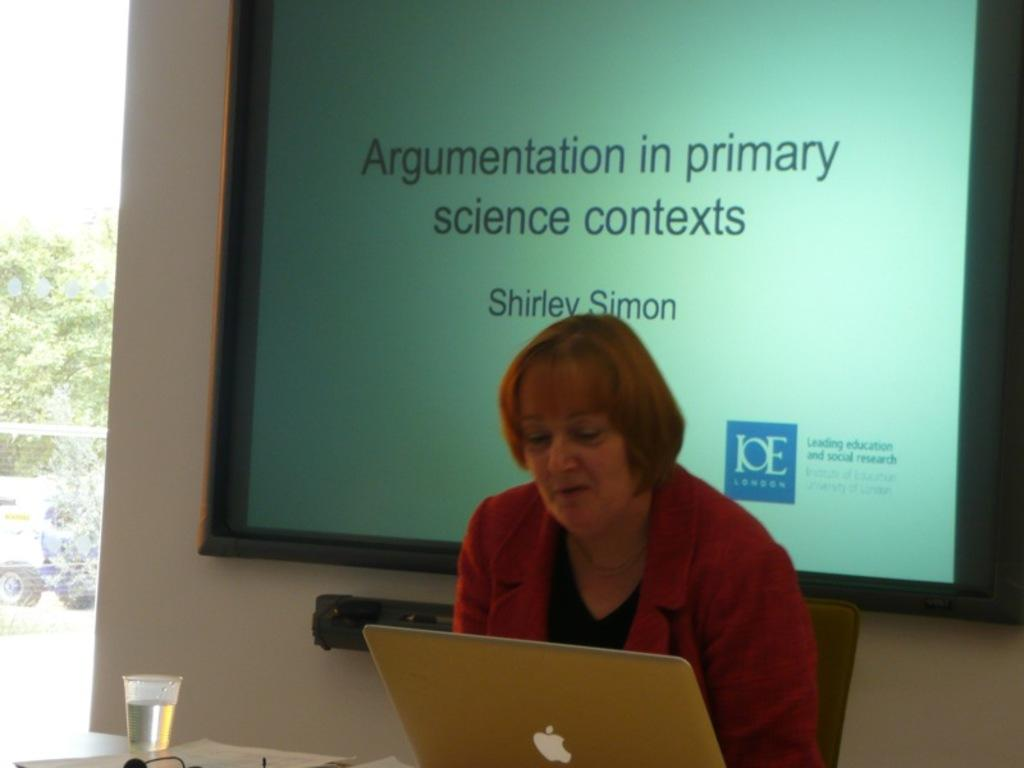Laptop: (337, 623, 758, 763)
